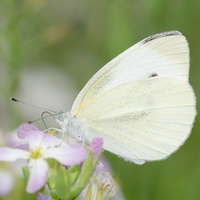insect: (59, 31, 195, 163)
